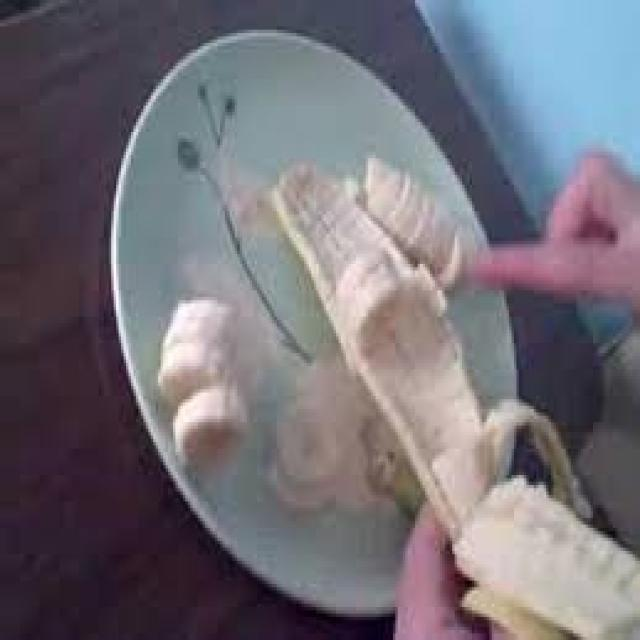Banana: (274, 333, 388, 541), (158, 290, 262, 495), (358, 155, 465, 271), (328, 235, 411, 356)
